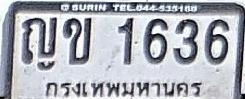1: (118, 17, 133, 64)
3: (174, 18, 198, 64)
6: (144, 18, 168, 64), (205, 18, 229, 64)
A02: (63, 16, 92, 64)
A13: (22, 16, 57, 63)
BKK: (42, 79, 205, 99)
